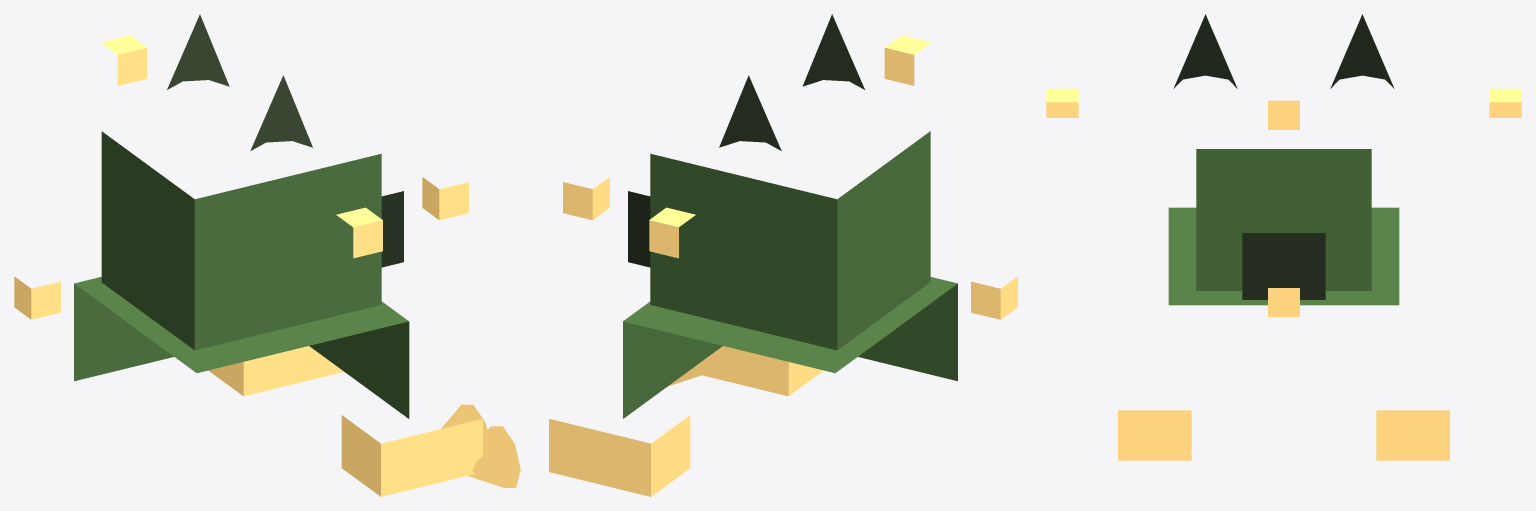
The model's file is lone-druid.glb.
The picture shows the model from 3 angles, left to right: view 1: azimuth 30°, elevation 25°; view 2: azimuth 150°, elevation 25°; view 3: azimuth 270°, elevation 25°; orthographic projection. The views are drawn at different scales.
Visible parts, largest first — view 1: lone-druid-fur-hood, lone-druid-shoulder-fur, lone-druid-bear-paw-l, lone-druid-bear-paw-r, lone-druid-claw (×2), lone-druid-ear-r, lone-druid-ear-l, lone-druid-snout, lone-druid-flair-mote-2, lone-druid-flair-mote-0, lone-druid-flair-mote-3, lone-druid-flair-mote-1; view 2: lone-druid-fur-hood, lone-druid-shoulder-fur, lone-druid-bear-paw-r, lone-druid-bear-paw-l, lone-druid-ear-r, lone-druid-ear-l, lone-druid-snout, lone-druid-flair-mote-1, lone-druid-flair-mote-2, lone-druid-flair-mote-0, lone-druid-flair-mote-3; view 3: lone-druid-fur-hood, lone-druid-shoulder-fur, lone-druid-snout, lone-druid-bear-paw-l, lone-druid-bear-paw-r, lone-druid-ear-l, lone-druid-ear-r, lone-druid-flair-mote-1, lone-druid-flair-mote-3, lone-druid-flair-mote-0, lone-druid-flair-mote-2.
Part boxes in pixels (x1,y1,x2,y2): lone-druid-fur-hood: (101, 131, 381, 350); lone-druid-shoulder-fur: (74, 277, 409, 418); lone-druid-bear-paw-l: (341, 415, 482, 496); lone-druid-bear-paw-r: (208, 346, 343, 396); lone-druid-claw (×2): (441, 404, 520, 487); lone-druid-ear-r: (167, 14, 229, 89); lone-druid-ear-l: (250, 75, 312, 150); lone-druid-snout: (381, 191, 403, 267); lone-druid-flair-mote-2: (14, 276, 60, 319); lone-druid-flair-mote-0: (422, 177, 468, 220); lone-druid-flair-mote-3: (101, 35, 147, 85); lone-druid-flair-mote-1: (336, 207, 382, 258); lone-druid-fur-hood: (650, 131, 930, 350); lone-druid-shoulder-fur: (623, 277, 957, 418); lone-druid-bear-paw-r: (549, 415, 690, 496); lone-druid-bear-paw-l: (694, 346, 823, 396); lone-druid-ear-r: (719, 75, 781, 150); lone-druid-ear-l: (802, 14, 864, 89); lone-druid-snout: (628, 191, 650, 267); lone-druid-flair-mote-1: (884, 35, 931, 85); lone-druid-flair-mote-2: (971, 276, 1017, 319); lone-druid-flair-mote-0: (563, 177, 609, 220); lone-druid-flair-mote-3: (649, 207, 695, 258); lone-druid-fur-hood: (1196, 149, 1371, 290); lone-druid-shoulder-fur: (1168, 207, 1399, 305); lone-druid-snout: (1242, 233, 1325, 299); lone-druid-bear-paw-l: (1118, 410, 1191, 460); lone-druid-bear-paw-r: (1376, 410, 1449, 460); lone-druid-ear-l: (1173, 14, 1237, 88); lone-druid-ear-r: (1330, 14, 1394, 88); lone-druid-flair-mote-1: (1046, 88, 1078, 117); lone-druid-flair-mote-3: (1489, 88, 1521, 117); lone-druid-flair-mote-0: (1268, 288, 1299, 317); lone-druid-flair-mote-2: (1268, 100, 1299, 129).
Bounding box in the file's own units: 1.03 × 0.9582 × 1.03.
